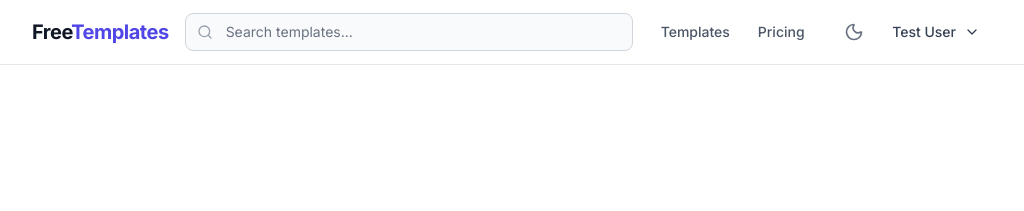
Scenario: Navbar › opens user menu dropdown when user name button is clicked
Click the button "Test User".
click(936, 32)  # box [880,14,992,50]
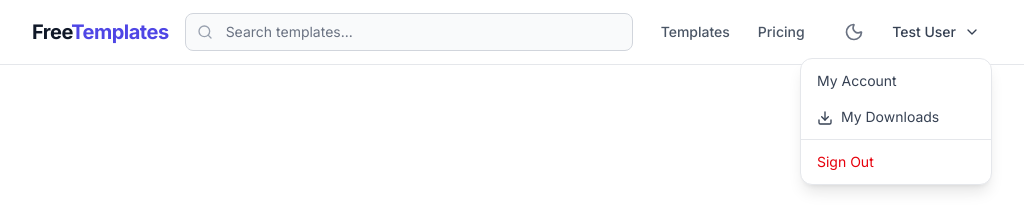
Expected: the menu item "My Account" is shown, [817,72,897,89]
Expected: the menu item "My Downloads" is shown, [817,108,939,126]
Expected: the menu item "Sign Out" is shown, [801,144,991,180]
